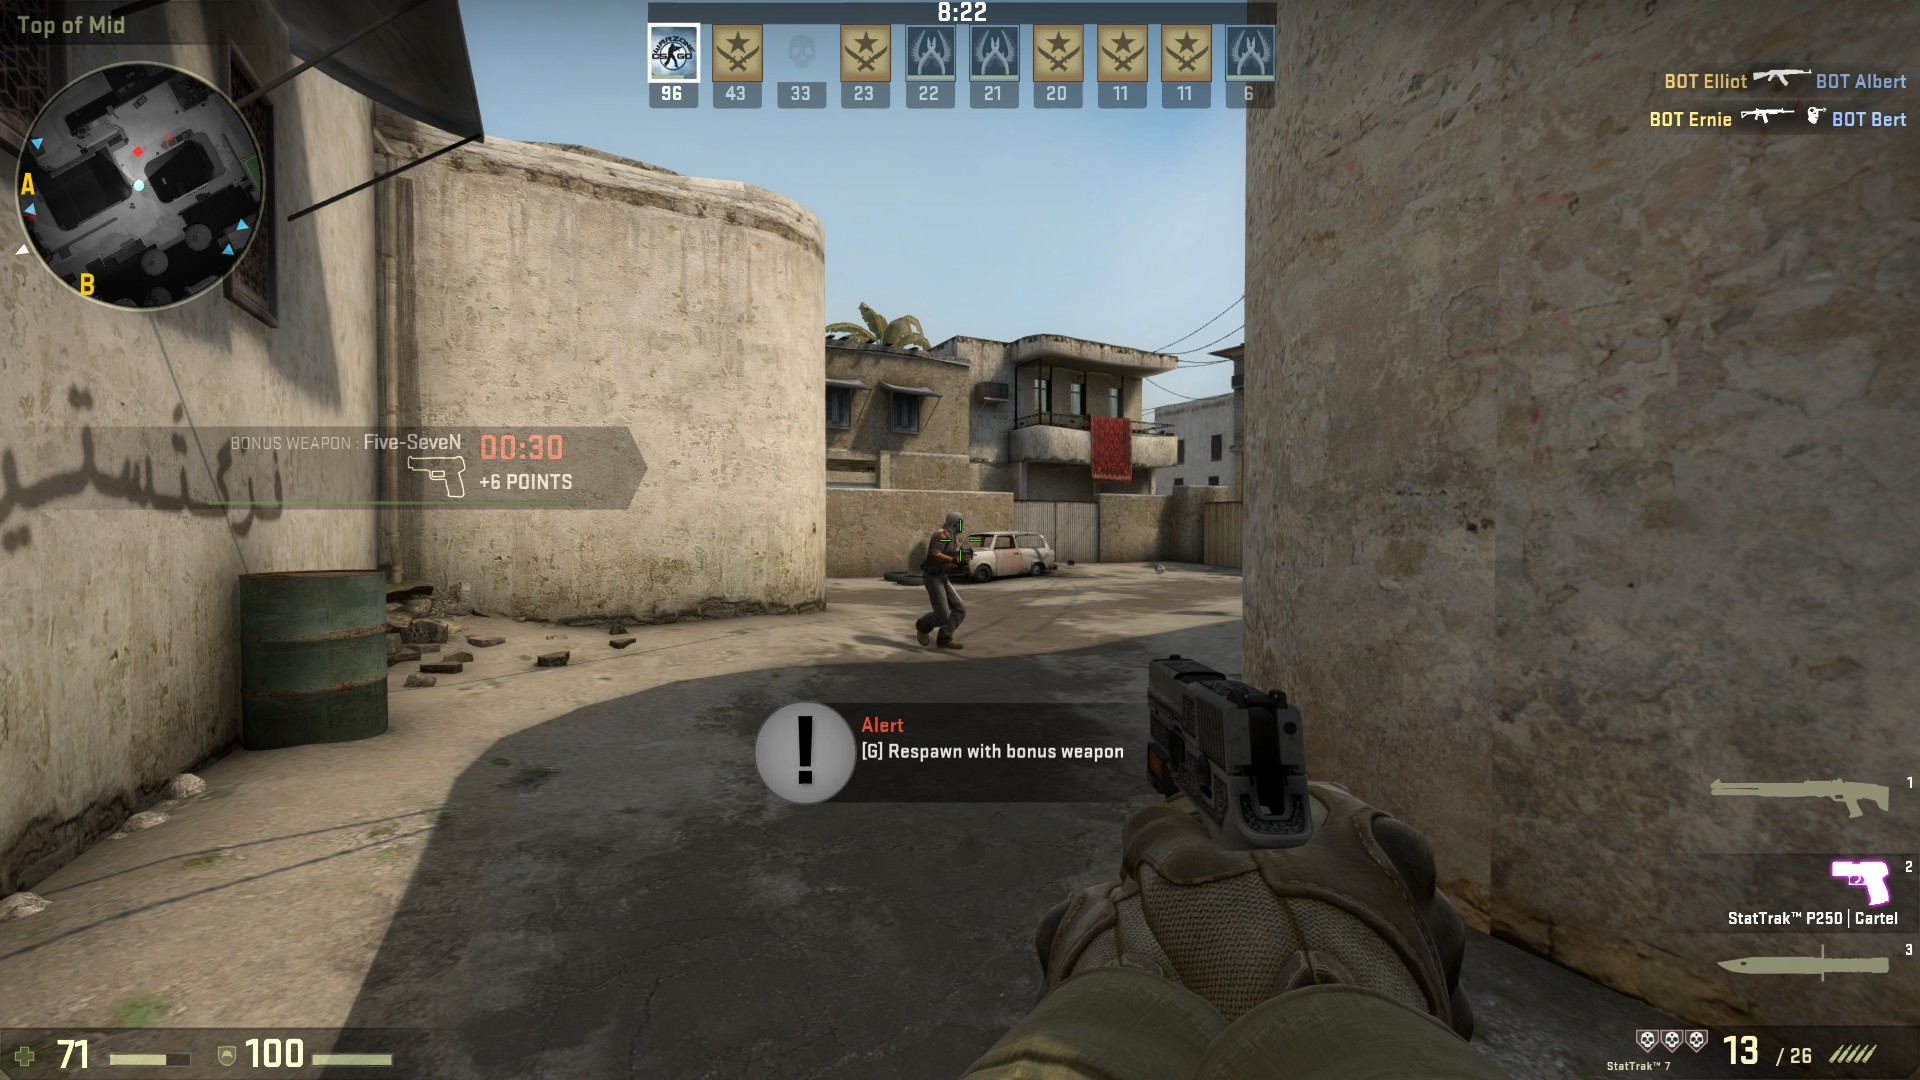t: (919, 512, 967, 645)
th: (938, 512, 968, 538)
